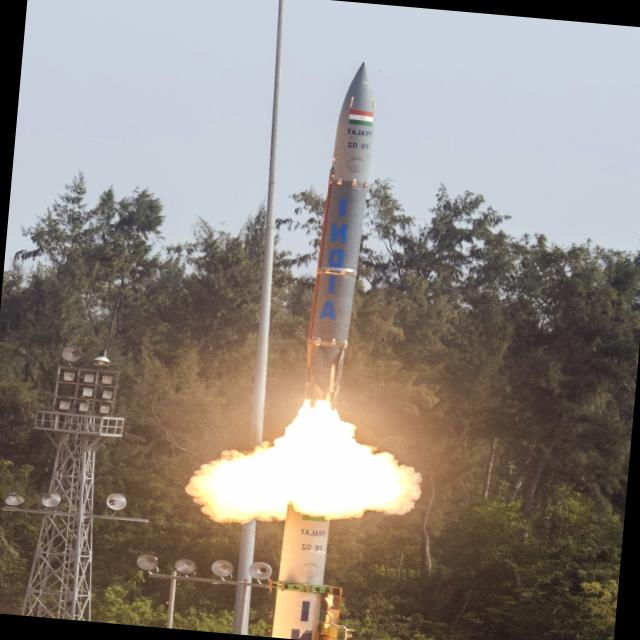rocket: (240, 45, 401, 614)
